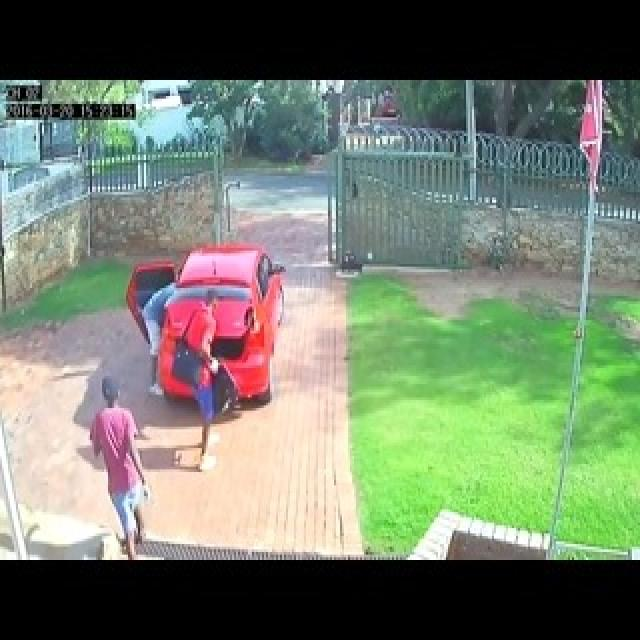thief: (96, 358, 143, 440), (193, 291, 227, 359), (148, 285, 176, 342)
